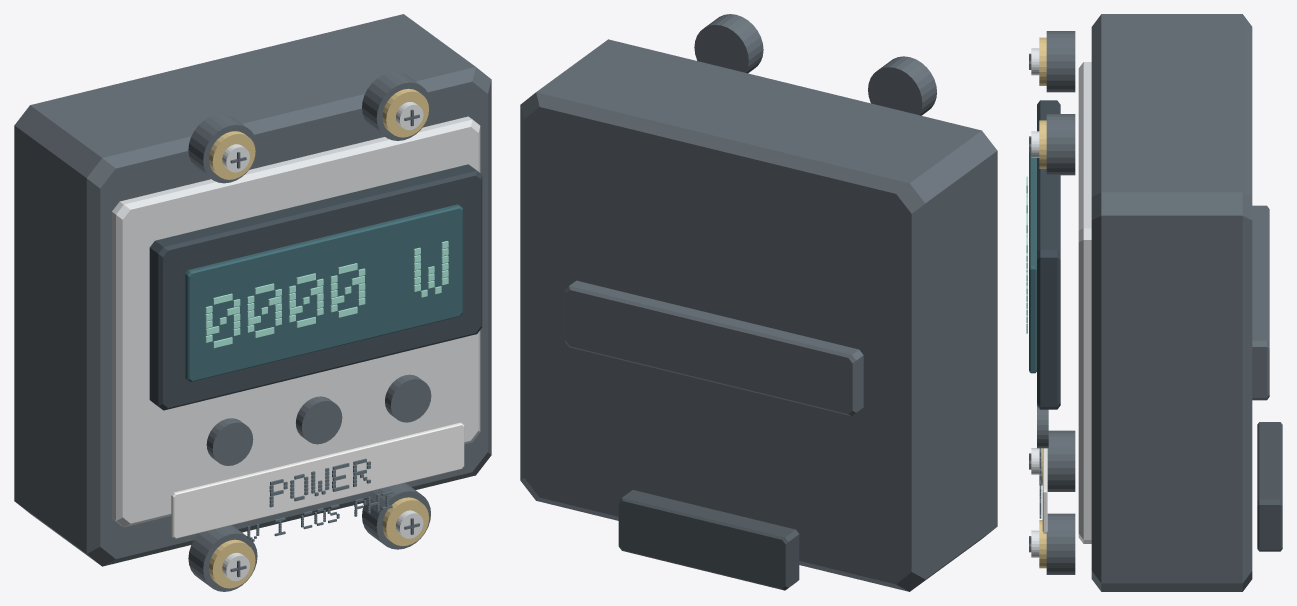
Rendered from wattmeter.glb.
3 views of the same model, side by side, from view 1: azimuth 30°, elevation 25°; view 2: azimuth 150°, elevation 25°; view 3: azimuth 270°, elevation 25° (orthographic). The views are drawn at different scales.
Parts seen in each view (by area): view 1: wattmeter-detailed; view 2: wattmeter-detailed; view 3: wattmeter-detailed.
Part boxes in pixels (x1,y1,x2,y2): wattmeter-detailed: (14, 14, 491, 591); wattmeter-detailed: (520, 14, 997, 591); wattmeter-detailed: (1026, 14, 1282, 591).
Size of the model in its own units: 2.33 by 2.56 by 1.31.
